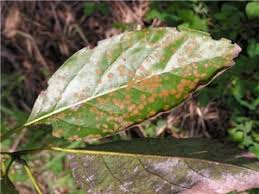Diseased_Leaves: (73, 160, 231, 194), (50, 96, 136, 129), (162, 29, 222, 63), (118, 66, 173, 100)
